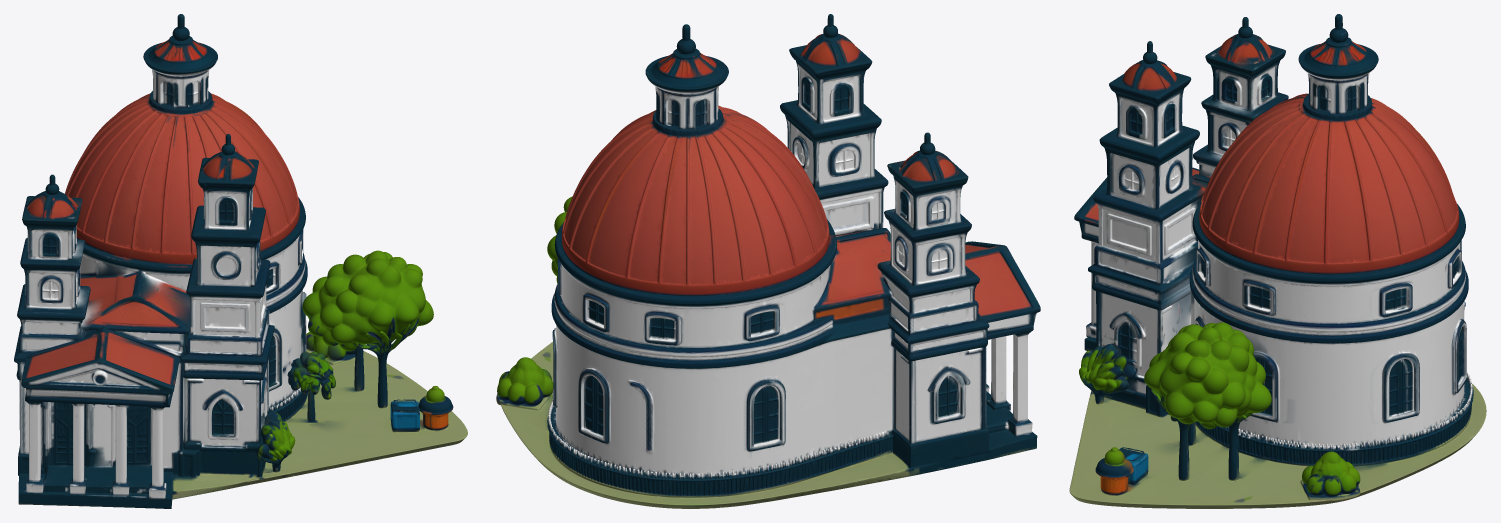
File: kota_lama_semarang.glb
3 views of the same model, side by side, from view 1: azimuth 30°, elevation 25°; view 2: azimuth 150°, elevation 25°; view 3: azimuth 270°, elevation 25° (orthographic). The views are drawn at different scales.
Parts seen in each view (by area): view 1: convert; view 2: convert; view 3: convert.
Boxes of the visible parts, x1,y1,x2,y2 form: convert: (14, 14, 467, 508); convert: (496, 14, 1040, 508); convert: (1069, 14, 1486, 508).
Size of the model in its own units: 0.8169 by 0.7029 by 0.6589.
1 material, 1 textured.
